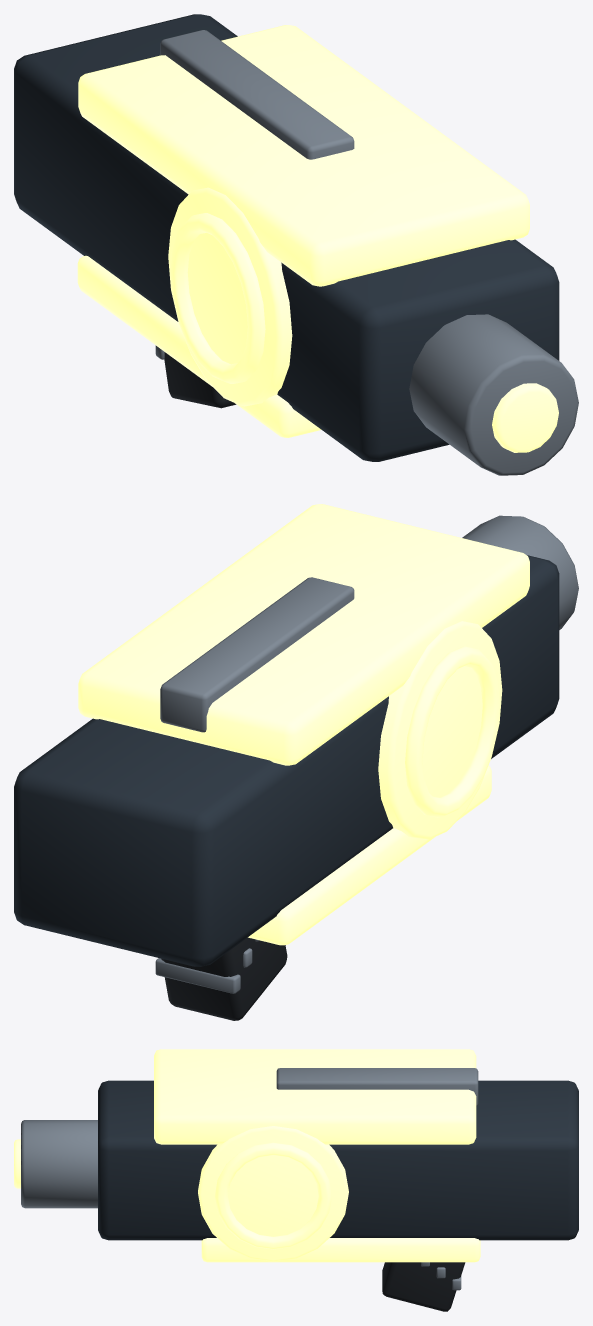
File: Juggernaut_HeavySpinfusor.fbx
The picture shows the model from 3 angles, top to bottom: view 1: azimuth 30°, elevation 25°; view 2: azimuth 150°, elevation 25°; view 3: azimuth 270°, elevation 25°; orthographic projection. The views are drawn at different scales.
Visible parts, largest first — view 1: Receiver.012, UpperArmor.006, Muzzle.006, EnergyChamber.006, TopRail.012, EnergyRingLeft.006, LowerArmor.006, MuzzleGlow.006, Grip.012; view 2: Receiver.012, UpperArmor.006, EnergyChamber.006, TopRail.012, EnergyRingLeft.006, LowerArmor.006, Grip.012, Muzzle.006, GripRib_03.012; view 3: Receiver.012, UpperArmor.006, EnergyChamber.006, Muzzle.006, LowerArmor.006, TopRail.012, EnergyRingRight.006, Grip.012.
Boxes of the visible parts, x1,y1,x2,y2 form: Receiver.012: (14, 14, 559, 461); UpperArmor.006: (78, 25, 529, 286); Muzzle.006: (409, 314, 578, 475); EnergyChamber.006: (168, 187, 292, 406); TopRail.012: (160, 30, 354, 159); EnergyRingLeft.006: (170, 213, 265, 383); LowerArmor.006: (77, 255, 321, 437); MuzzleGlow.006: (492, 383, 558, 452); Grip.012: (164, 352, 236, 408); Receiver.012: (14, 555, 559, 966); UpperArmor.006: (78, 504, 529, 765); EnergyChamber.006: (378, 621, 502, 839); TopRail.012: (160, 577, 354, 732); EnergyRingLeft.006: (405, 646, 500, 817); LowerArmor.006: (248, 765, 491, 945); Grip.012: (161, 937, 287, 1020); Muzzle.006: (462, 515, 578, 629); GripRib_03.012: (155, 958, 240, 993); Receiver.012: (98, 1080, 578, 1240); UpperArmor.006: (154, 1049, 476, 1144); EnergyChamber.006: (198, 1126, 348, 1261); Muzzle.006: (21, 1120, 97, 1208); LowerArmor.006: (201, 1238, 480, 1262); TopRail.012: (276, 1068, 478, 1106); EnergyRingRight.006: (214, 1142, 331, 1249); Grip.012: (382, 1262, 465, 1311).
Size of the model in its own units: 148 by 193 by 435.
